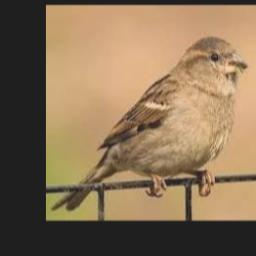Sparrow: (52, 37, 248, 211)
